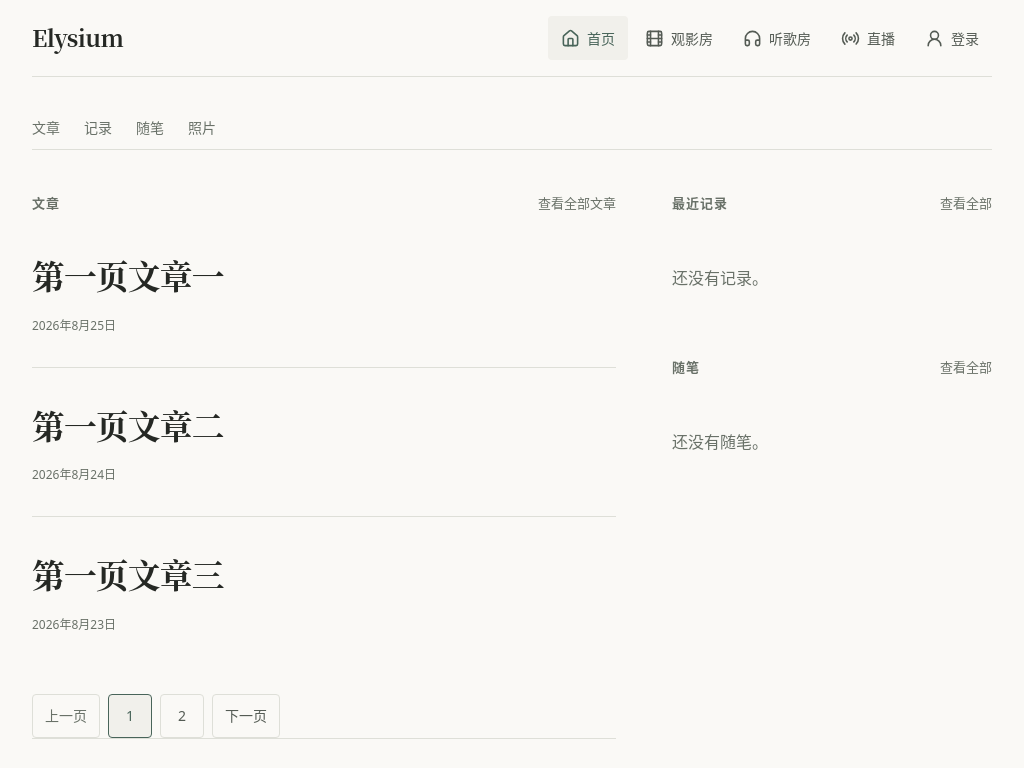
ArticleFlowHome › returns to the top after changing article pages
Check: the heading "第一页文章一" is shown, box [32, 251, 224, 298]
Click the link "下一页" at (246, 716), box [212, 694, 280, 738]
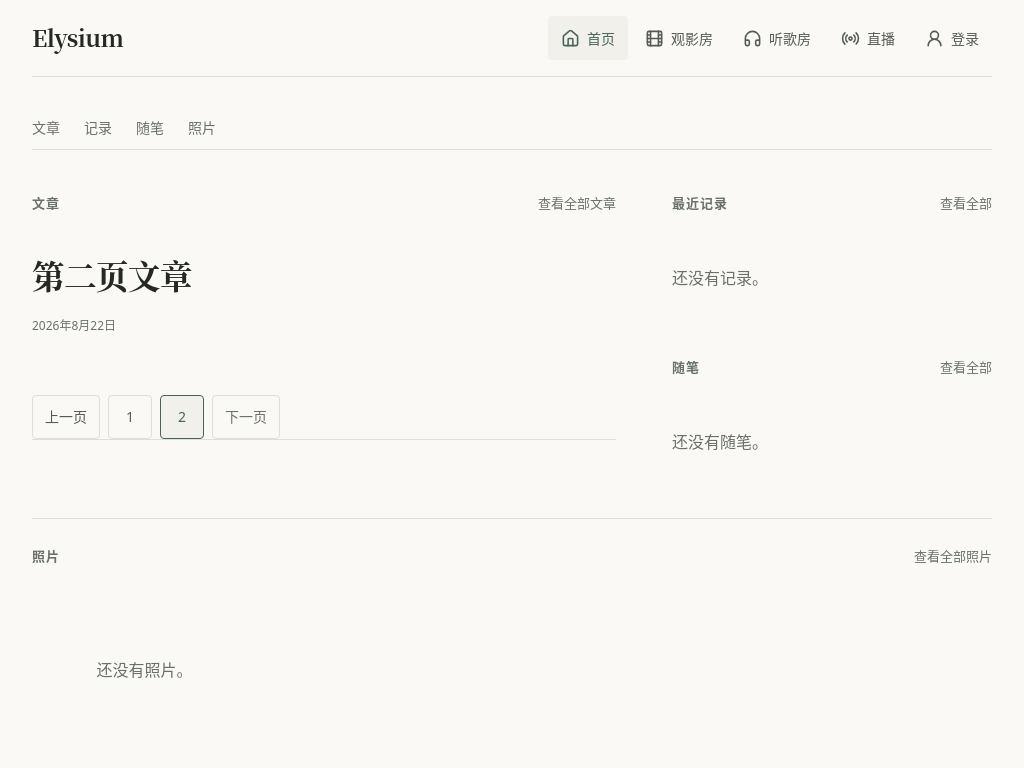
Check: the heading "第二页文章" is shown, box [32, 251, 192, 298]
